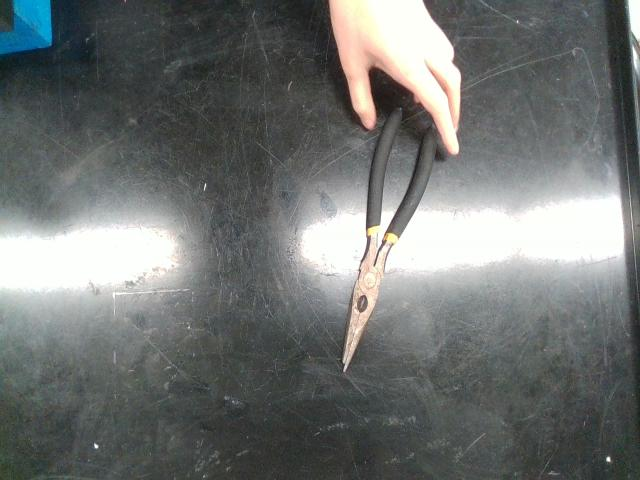Hand: (329, 1, 461, 155)
Needle-nose pliers: (342, 108, 438, 371)
